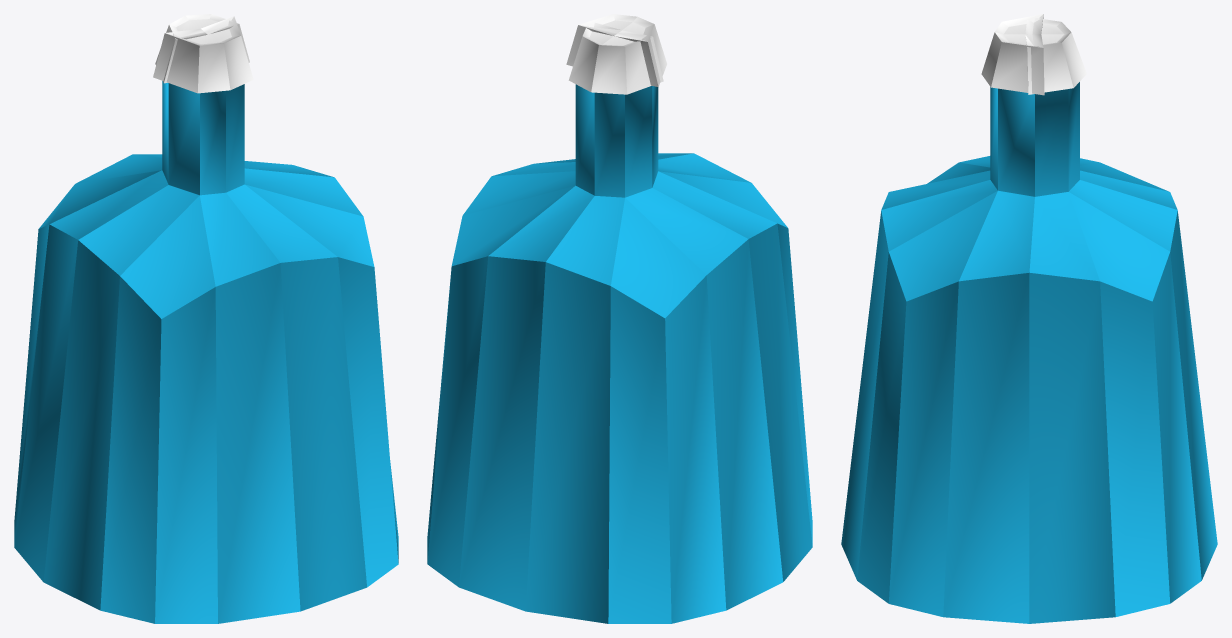
File: Bottle_3.fbx
The picture shows the model from 3 angles, left to right: view 1: azimuth 30°, elevation 25°; view 2: azimuth 150°, elevation 25°; view 3: azimuth 270°, elevation 25°; orthographic projection.
Visible parts, largest first — view 1: Bottle_3; view 2: Bottle_3; view 3: Bottle_3.
Part boxes in pixels (left/top/right/bottom): Bottle_3: left=14, top=14, right=398, bottom=623; Bottle_3: left=427, top=14, right=812, bottom=623; Bottle_3: left=841, top=14, right=1217, bottom=623.
Bounding box in the file's own units: 20.79 × 31.28 × 20.79.
